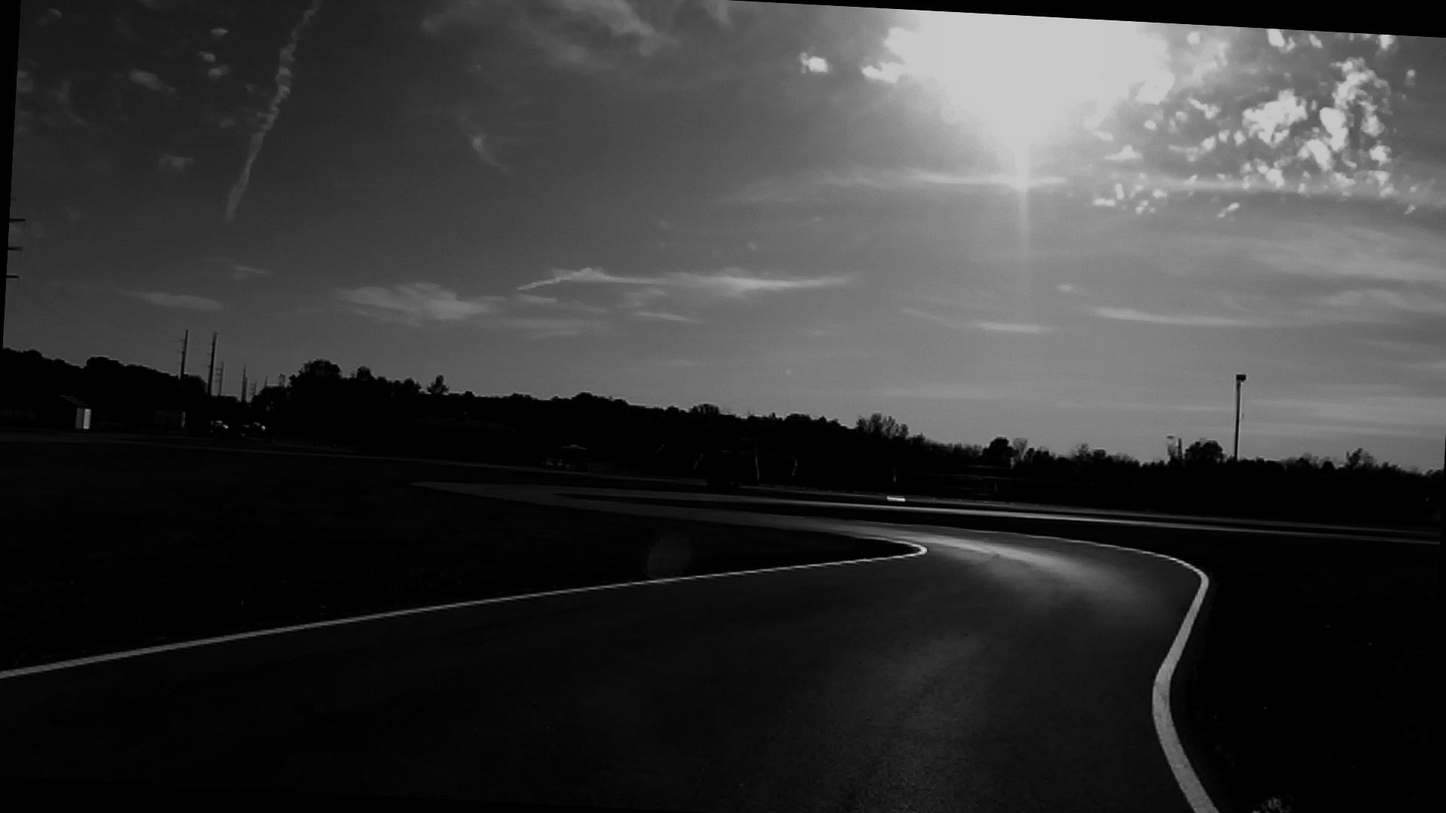white-line: (0, 537, 926, 680), (1016, 532, 1220, 813)
